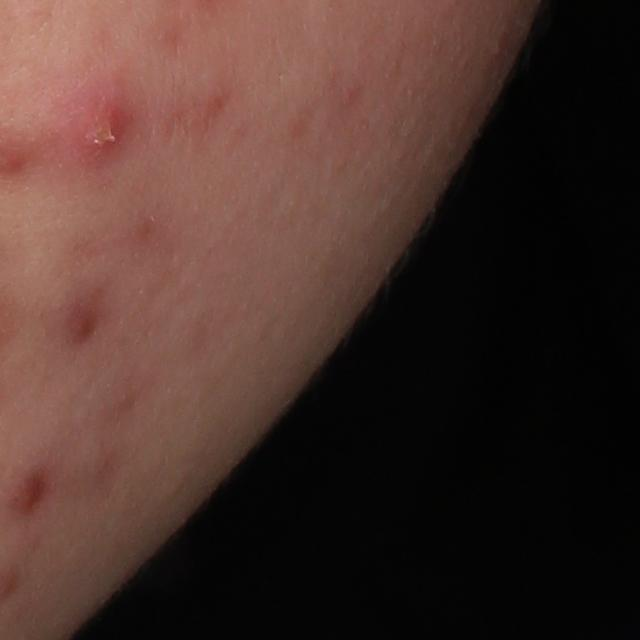papule: (70, 98, 129, 165), (6, 468, 48, 519), (56, 302, 100, 348)
